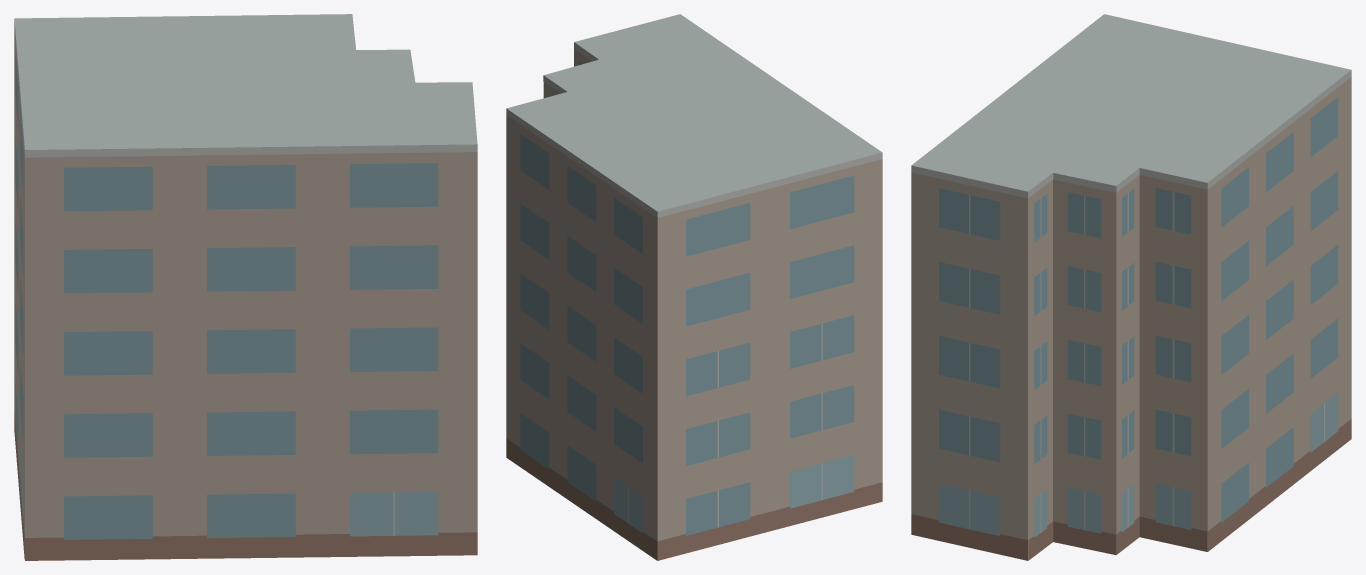
File: survey-upis-32955887.glb
3 renders of one model, left to right at view 1: azimuth 30°, elevation 25°; view 2: azimuth 150°, elevation 25°; view 3: azimuth 270°, elevation 25°, orthographic. The views are drawn at different scales.
Parts seen in each view (by area): view 1: survey-upis-32955887.tmp; view 2: survey-upis-32955887.tmp; view 3: survey-upis-32955887.tmp.
Boxes of the visible parts, <box> form: survey-upis-32955887.tmp: <box>14,14,477,560</box>; survey-upis-32955887.tmp: <box>506,14,882,560</box>; survey-upis-32955887.tmp: <box>911,14,1351,560</box>.
Size of the model in its own units: 13.69 by 13.25 by 14.33.
